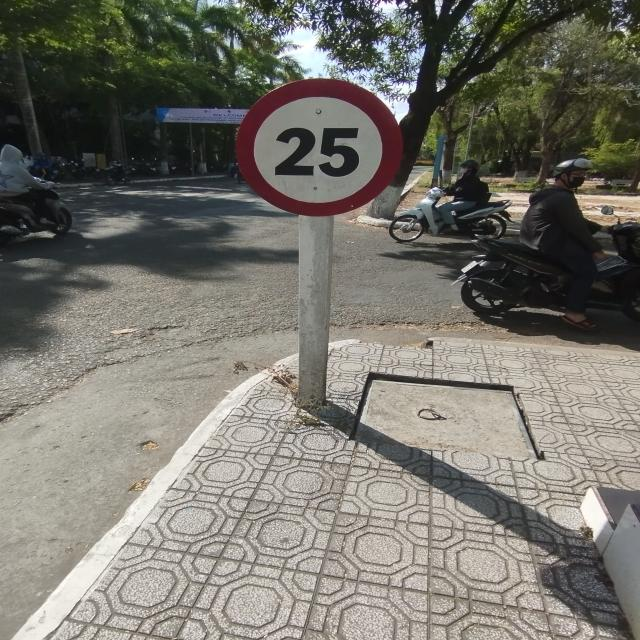Tre_Em: (234, 78, 404, 216)
